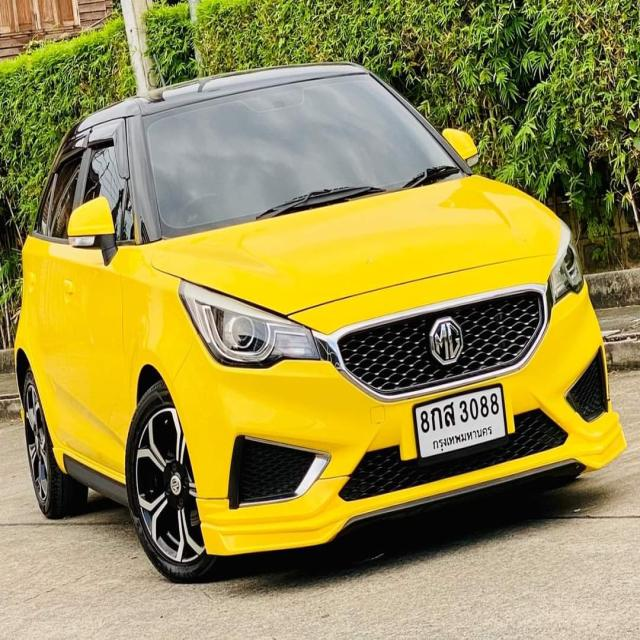license_plate: (410, 381, 510, 460)
